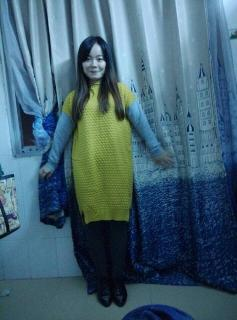long sleeve dress: (45, 79, 164, 224)
trousers: (72, 154, 132, 279)
